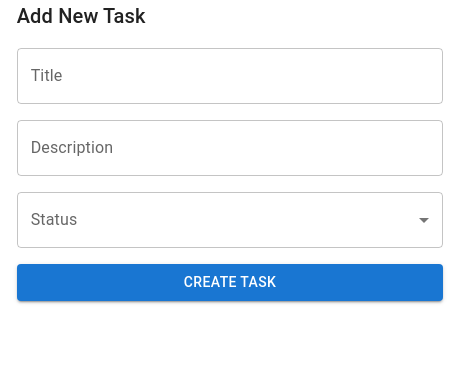
Test: TaskCreateForm › should show error if submitting empty form
The image size is (461, 389).
Click the button "Create Task".
click(230, 282)  # box [17, 264, 443, 300]
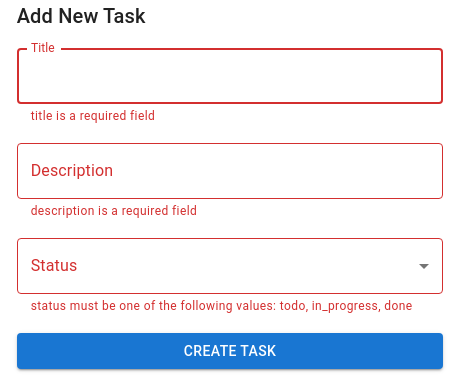
Expected: the text "title is a required field" is shown, [31, 109, 155, 123]
